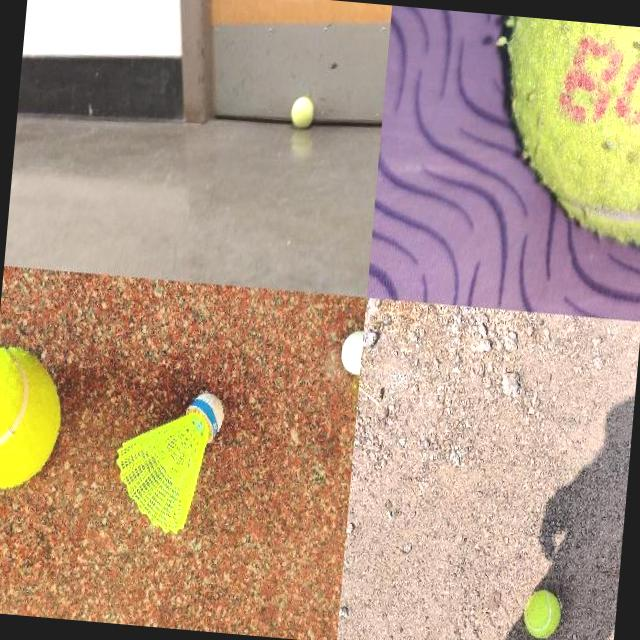Tennis Ball: (492, 15, 640, 248), (0, 343, 67, 493), (521, 589, 561, 640), (290, 95, 316, 128)
